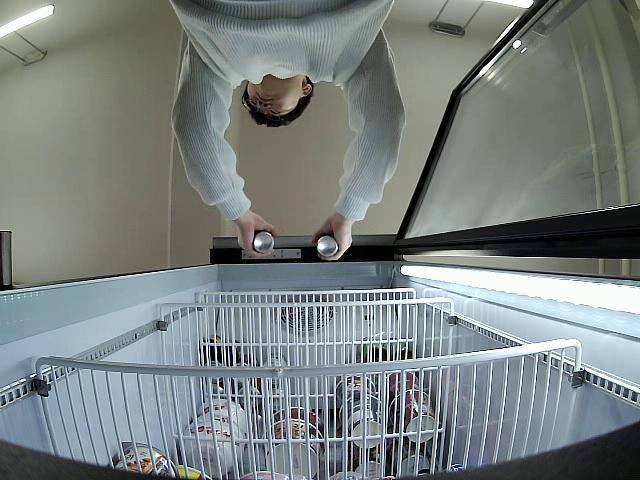00_hand: (310, 213, 353, 262), (238, 215, 279, 257)
16_hot6: (315, 233, 341, 259), (252, 229, 275, 254)
